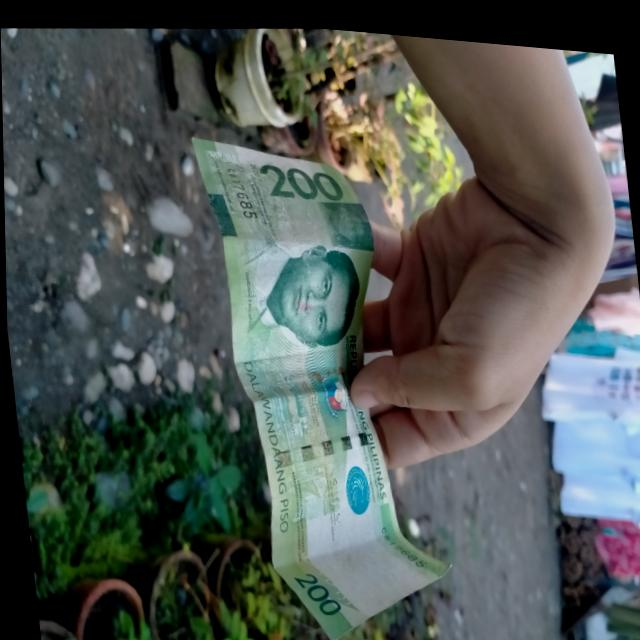concealed_value: (322, 185, 372, 247)
security_thread: (258, 411, 378, 471)
value: (258, 150, 343, 205)
